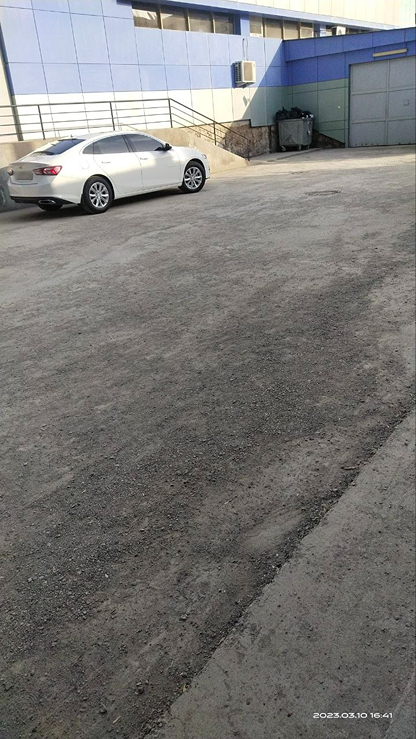car: (7, 127, 220, 209)
